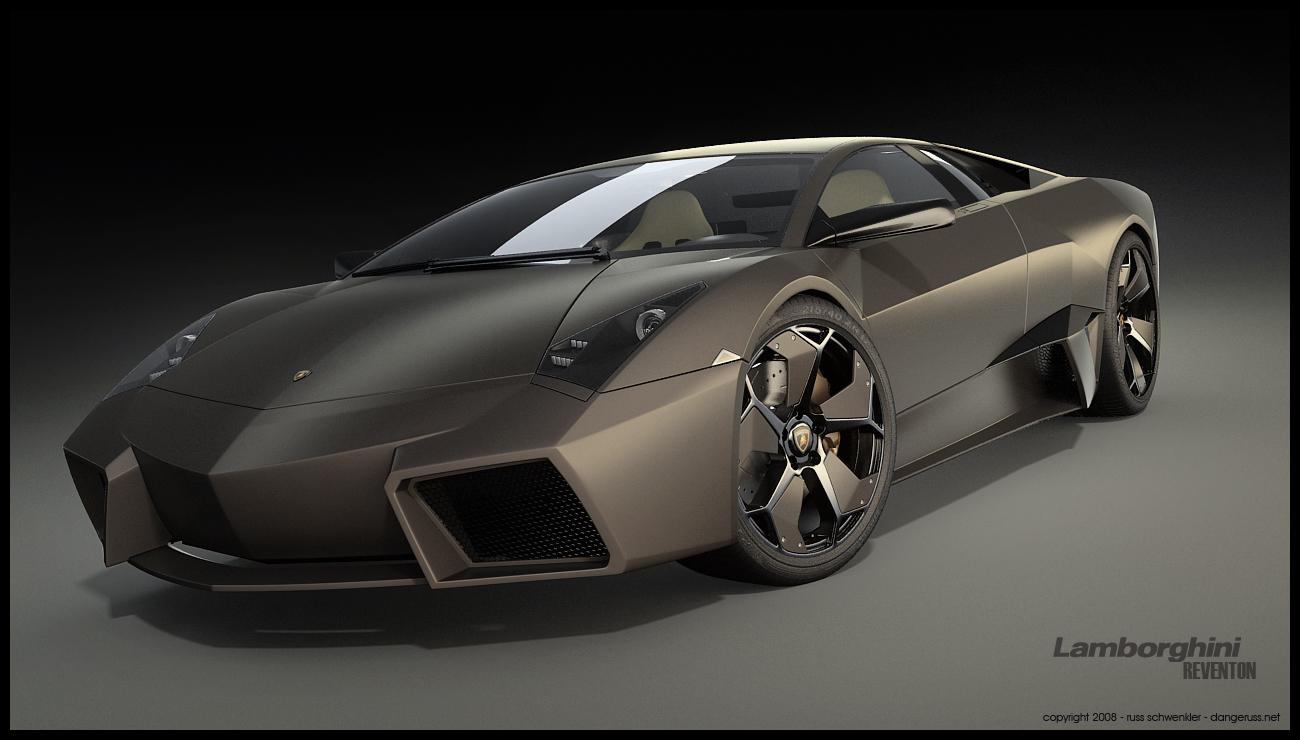Car: (45, 104, 1208, 658)
